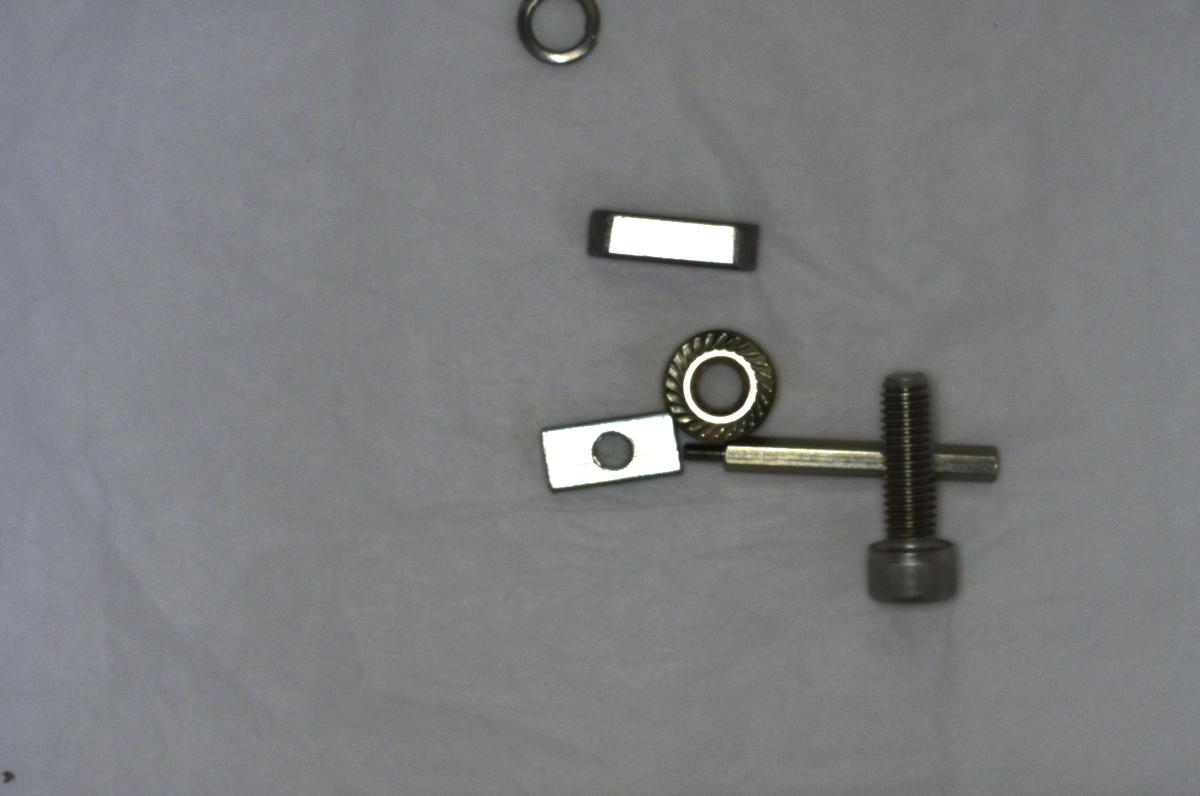Flange nut: (653, 319, 775, 433)
Hexagon screw: (860, 365, 974, 608)
Hexagonal steel column: (675, 430, 1014, 485)
Keybar: (574, 192, 765, 281)
Rectangular nut: (537, 405, 689, 498)
Spring washer: (503, 6, 625, 72)
